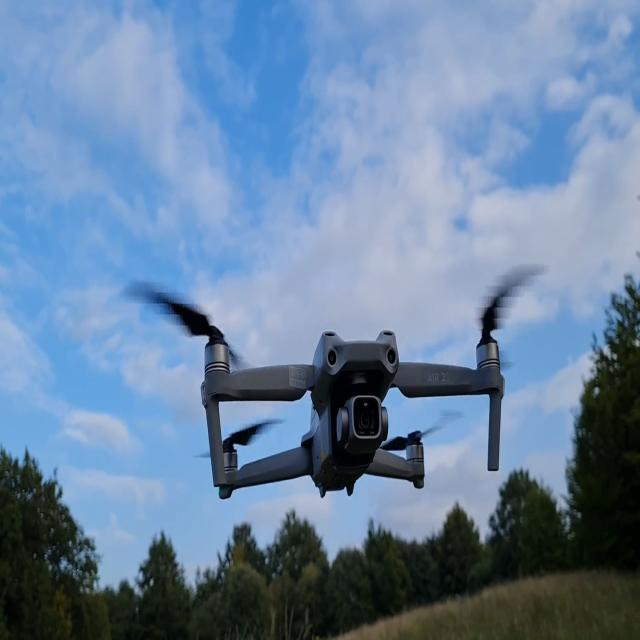drone: (119, 261, 549, 500)
